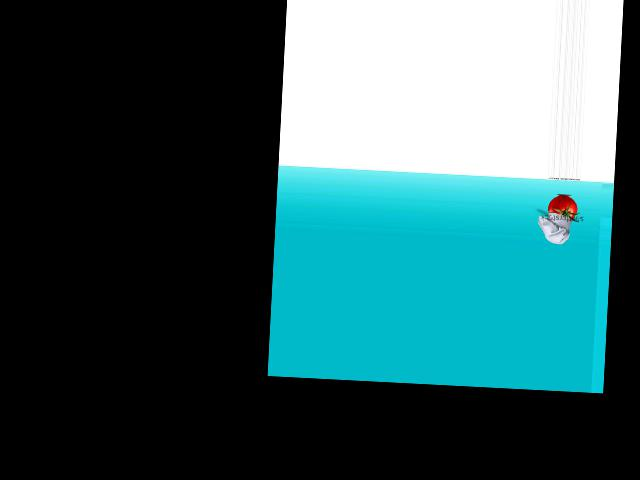tomato: (547, 195, 577, 220)
